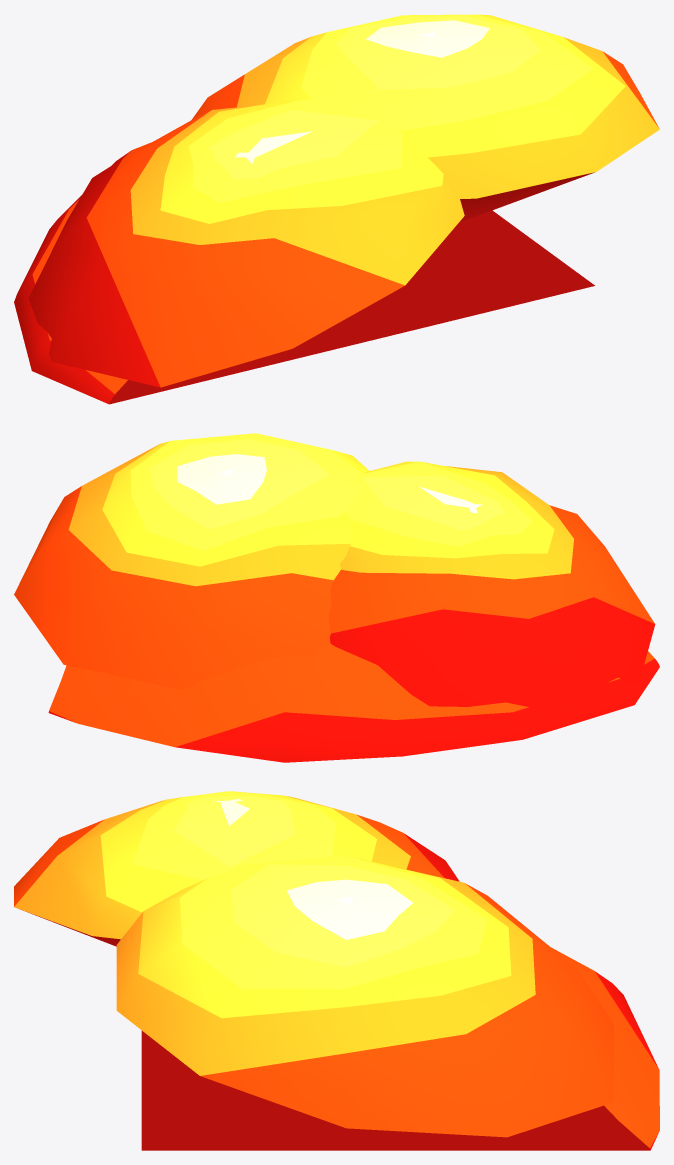
File: shot_zflame_174.glb
3 renders of one model, top to bottom at view 1: azimuth 30°, elevation 25°; view 2: azimuth 150°, elevation 25°; view 3: azimuth 270°, elevation 25°, orthographic. The views are drawn at different scales.
Visible parts, largest first — view 1: zflame_2_billow1_b174, zflame_2_billow0_b174, zflame_2_bed_b174; view 2: zflame_2_billow0_b174, zflame_2_billow1_b174, zflame_2_bed_b174; view 3: zflame_2_billow0_b174, zflame_2_billow1_b174, zflame_2_bed_b174.
Boxes of the visible parts, <box> form: zflame_2_billow1_b174: <box>28,98,464,387</box>; zflame_2_billow0_b174: <box>192,14,659,222</box>; zflame_2_bed_b174: <box>14,142,594,404</box>; zflame_2_billow0_b174: <box>14,433,369,689</box>; zflame_2_billow1_b174: <box>328,461,655,708</box>; zflame_2_bed_b174: <box>48,643,659,762</box>; zflame_2_billow0_b174: <box>116,855,613,1137</box>; zflame_2_billow1_b174: <box>14,791,459,946</box>; zflame_2_bed_b174: <box>141,947,659,1150</box>.
Size of the model in its own units: 13.81 by 4.06 by 11.05.
